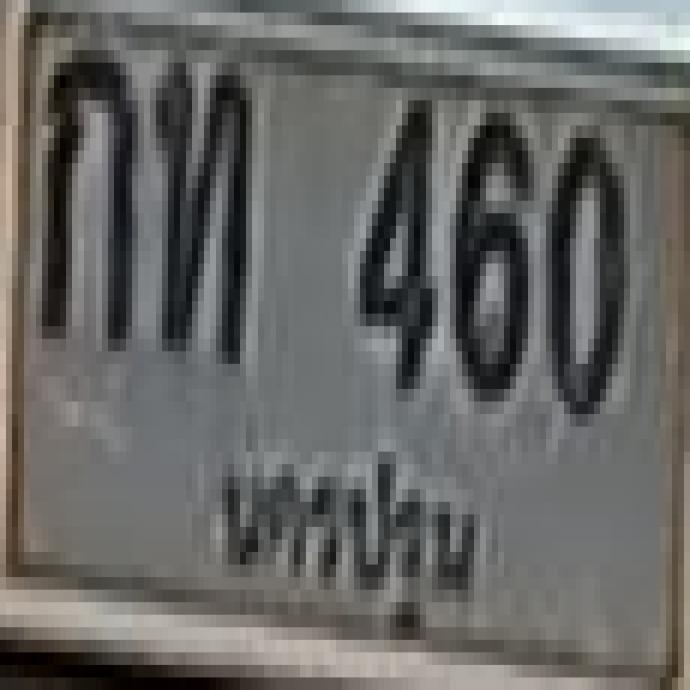0: (542, 124, 619, 410)
4: (355, 86, 431, 383)
6: (449, 101, 525, 390)
A01: (35, 37, 130, 333)
A23: (152, 51, 246, 347)
NPT: (207, 425, 486, 639)
